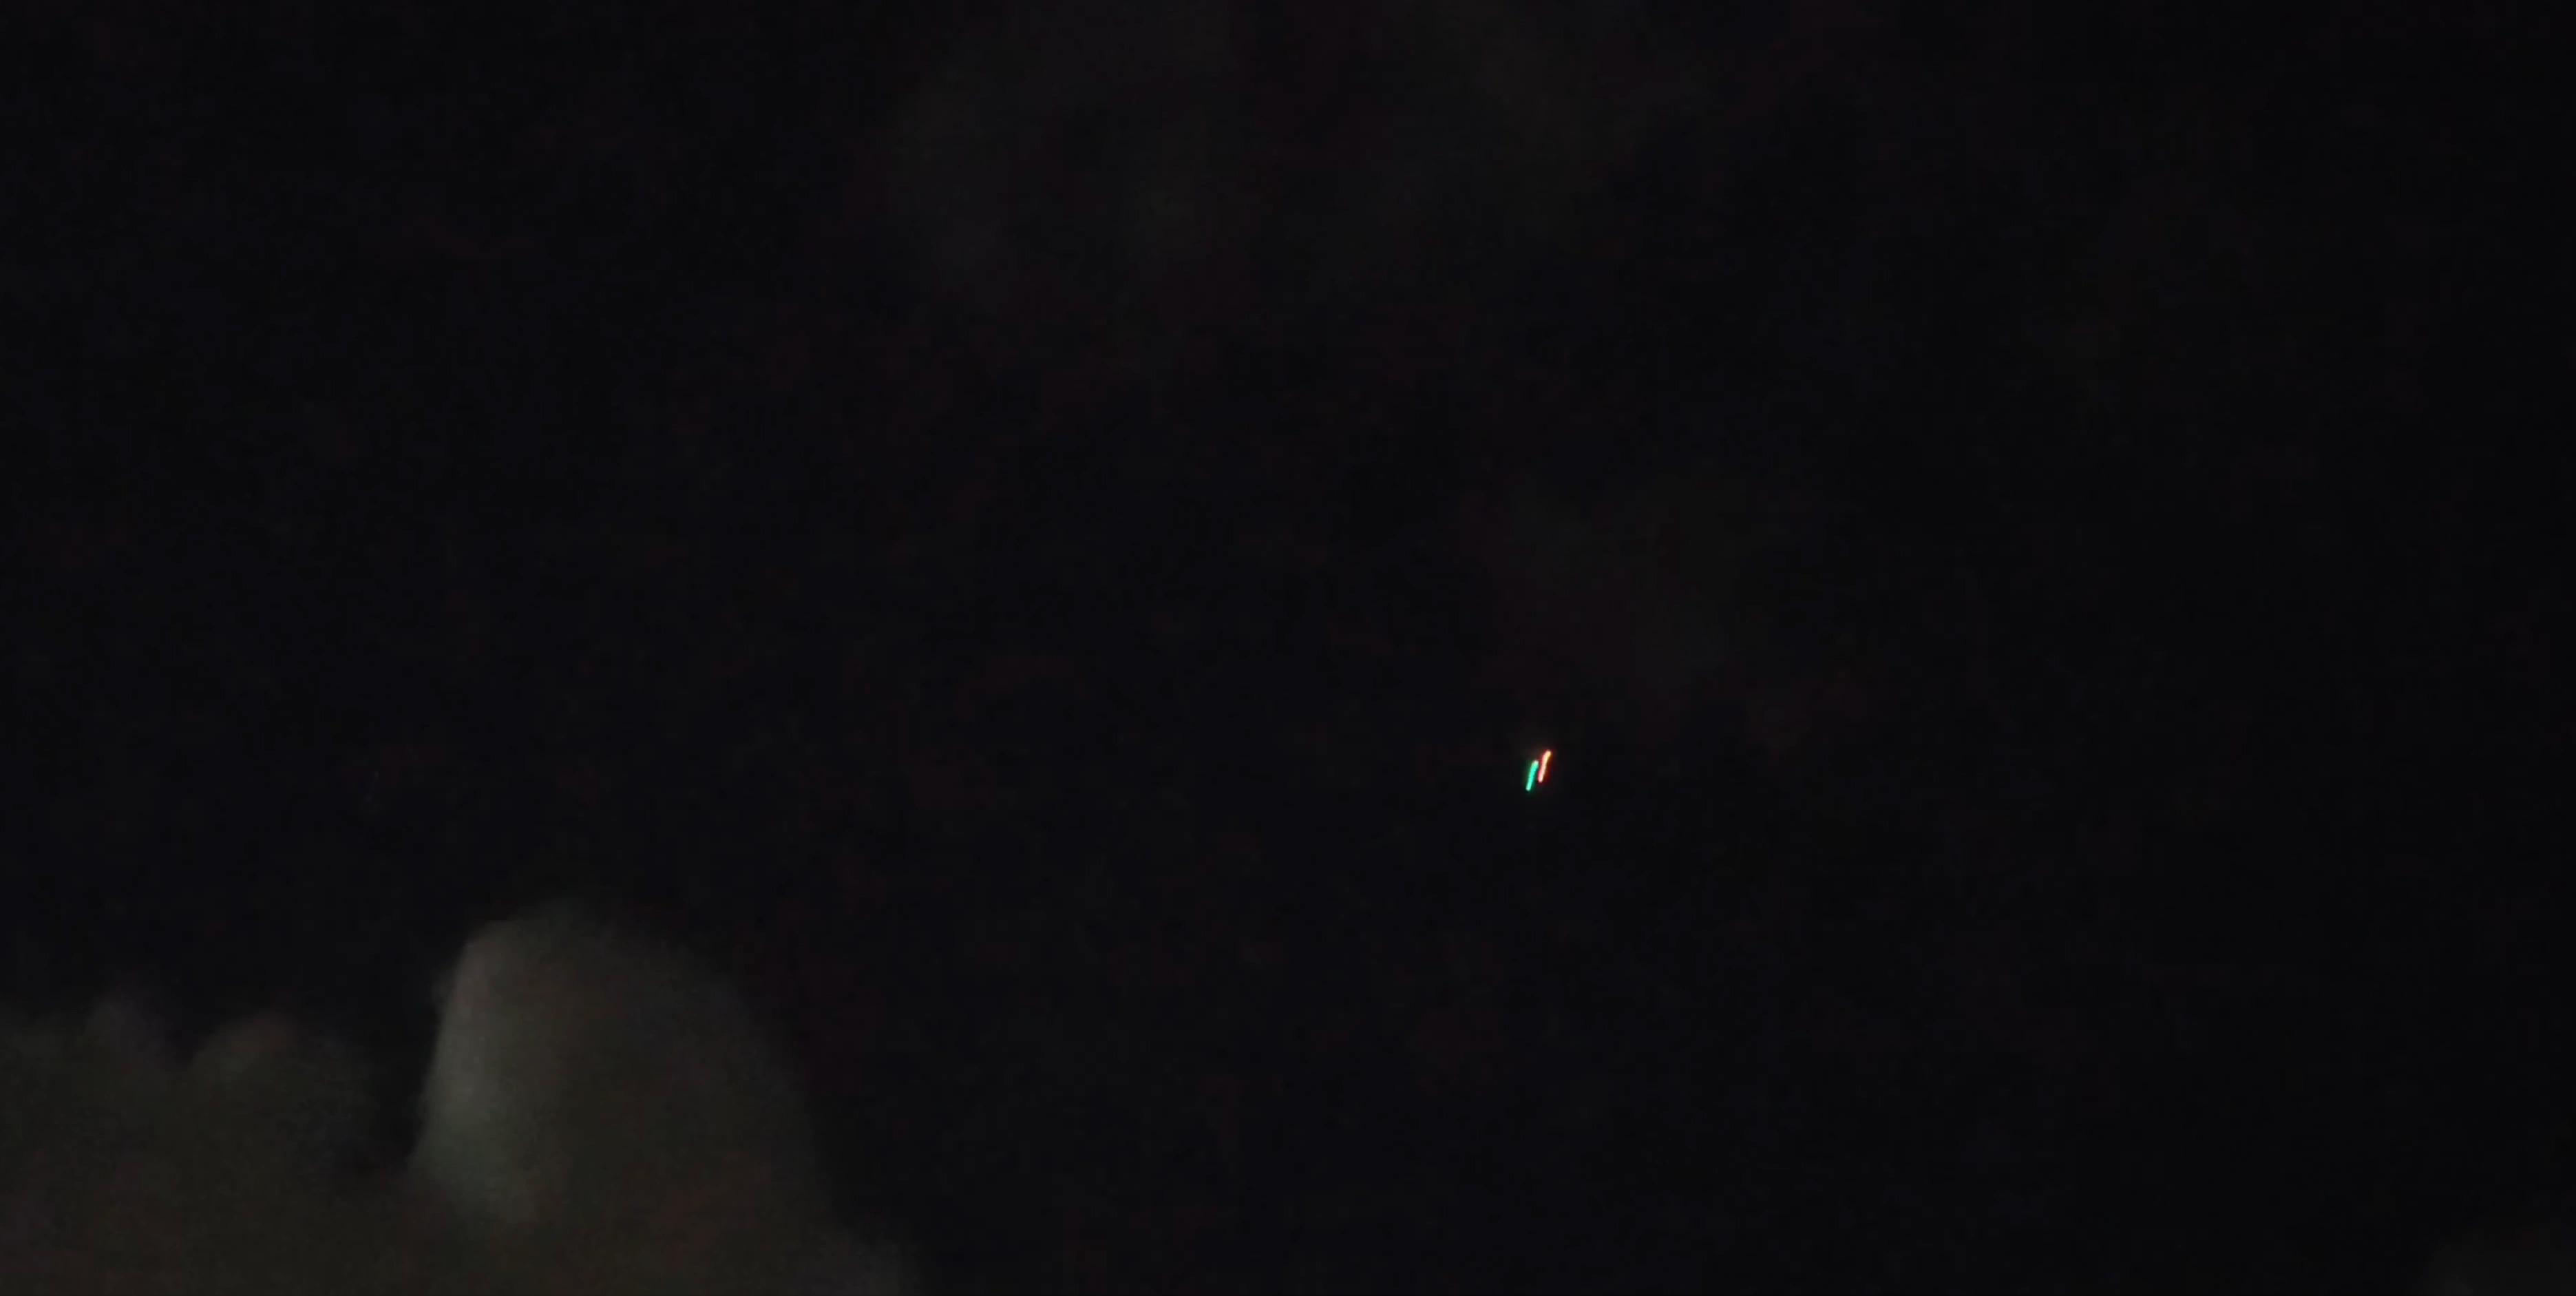meteorite: (1449, 731, 1631, 812)
